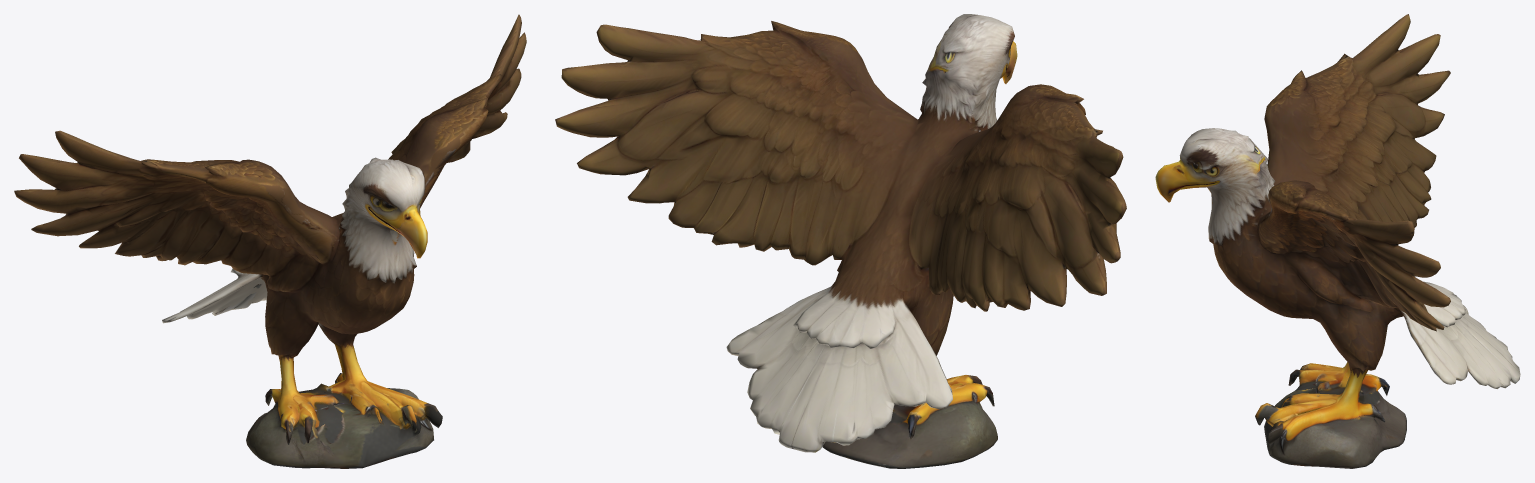
File: eagle.glb
The picture shows the model from 3 angles, left to right: view 1: azimuth 30°, elevation 25°; view 2: azimuth 150°, elevation 25°; view 3: azimuth 270°, elevation 25°; orthographic projection. The views are drawn at different scales.
Size of the model in its own units: 65635 by 42269 by 44368.
Materials: 1 (1 with a texture image).
